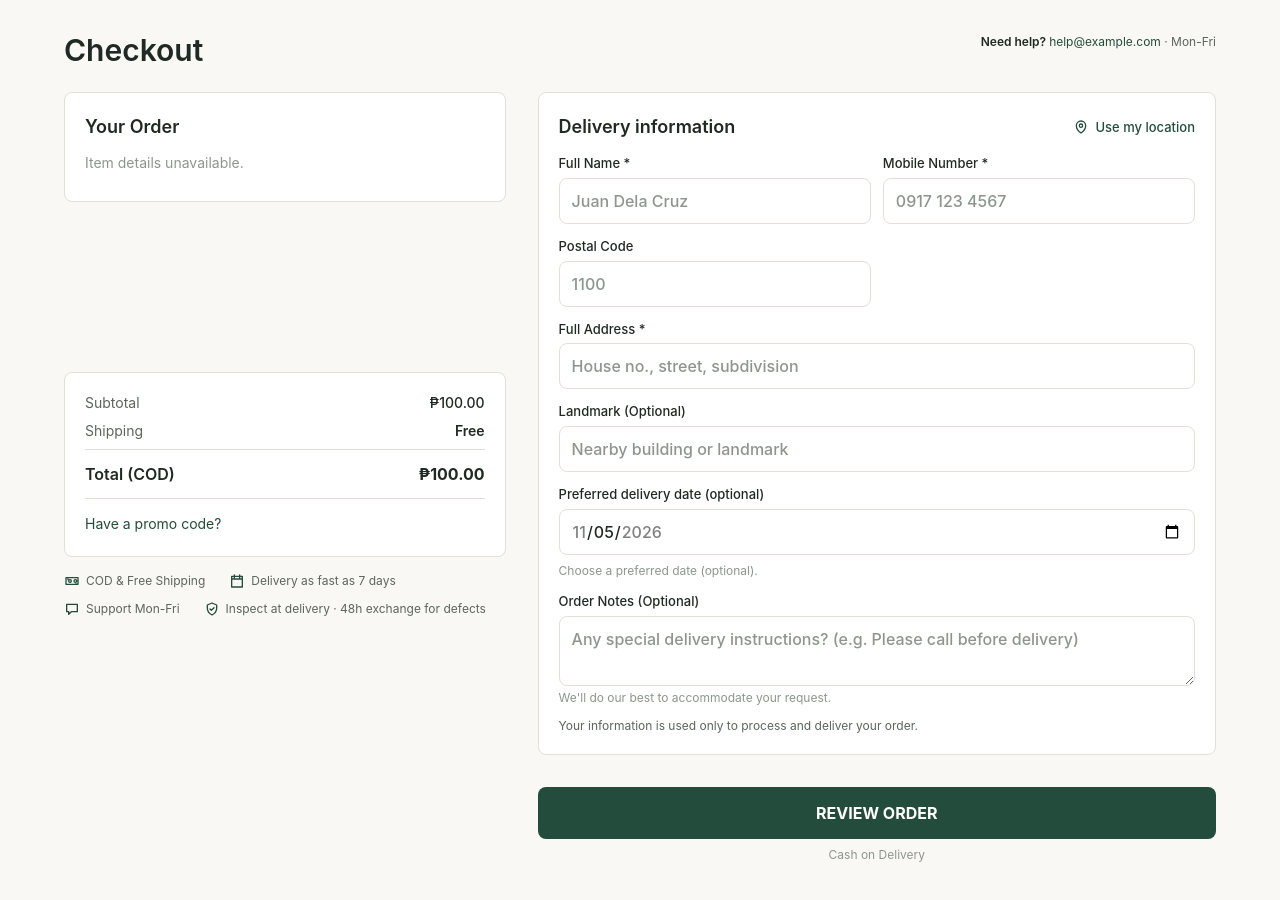
Scenario: CheckoutForm totals summary › shows the promo discount in the summary and lowers the total
Click the button "Have a promo code?" at (153, 524), box [85,514,222,534]
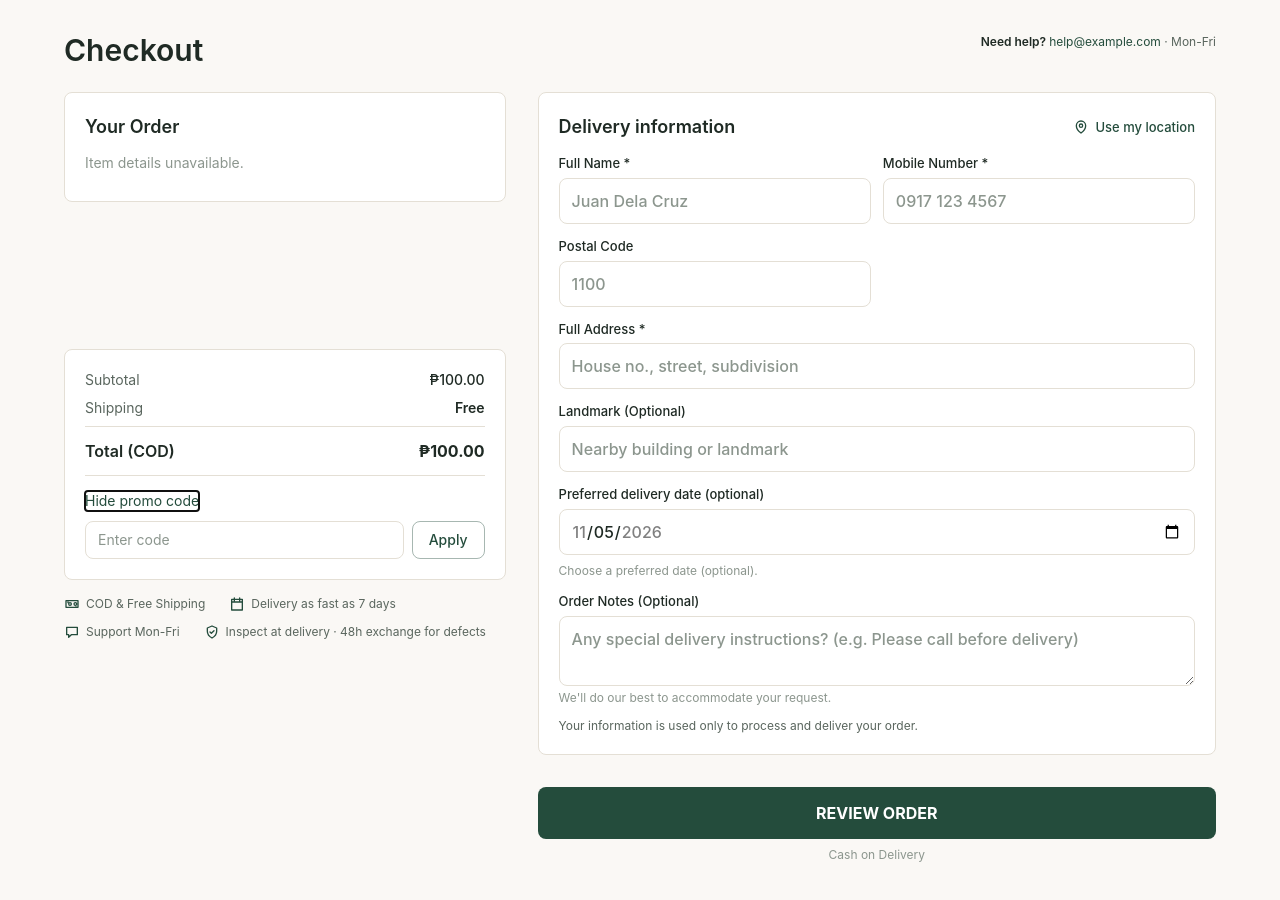
Type "save10" into the field named "Promo code" at (244, 540), box [85,521,404,559]
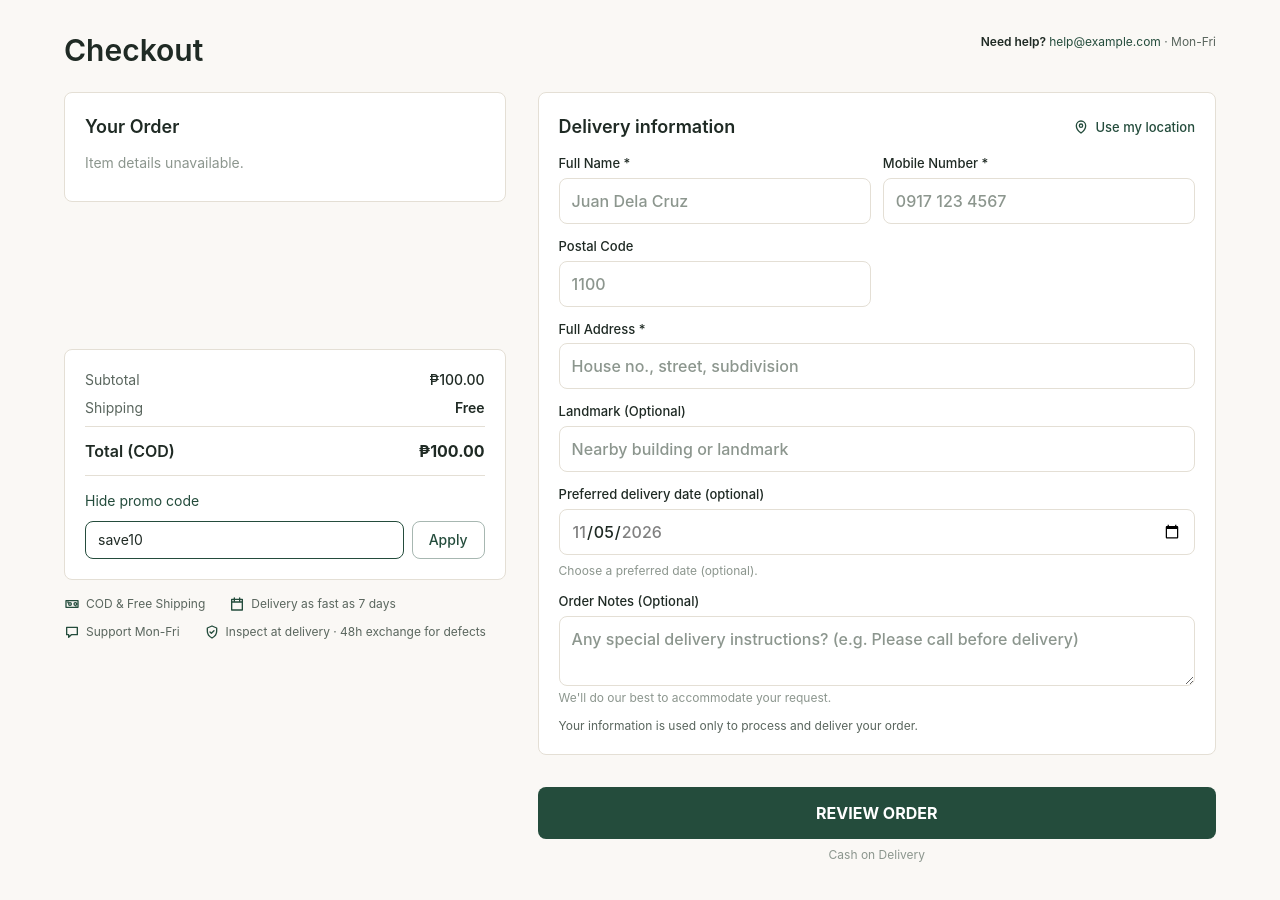
Click the button "Apply" at (448, 540), box [412,521,485,559]
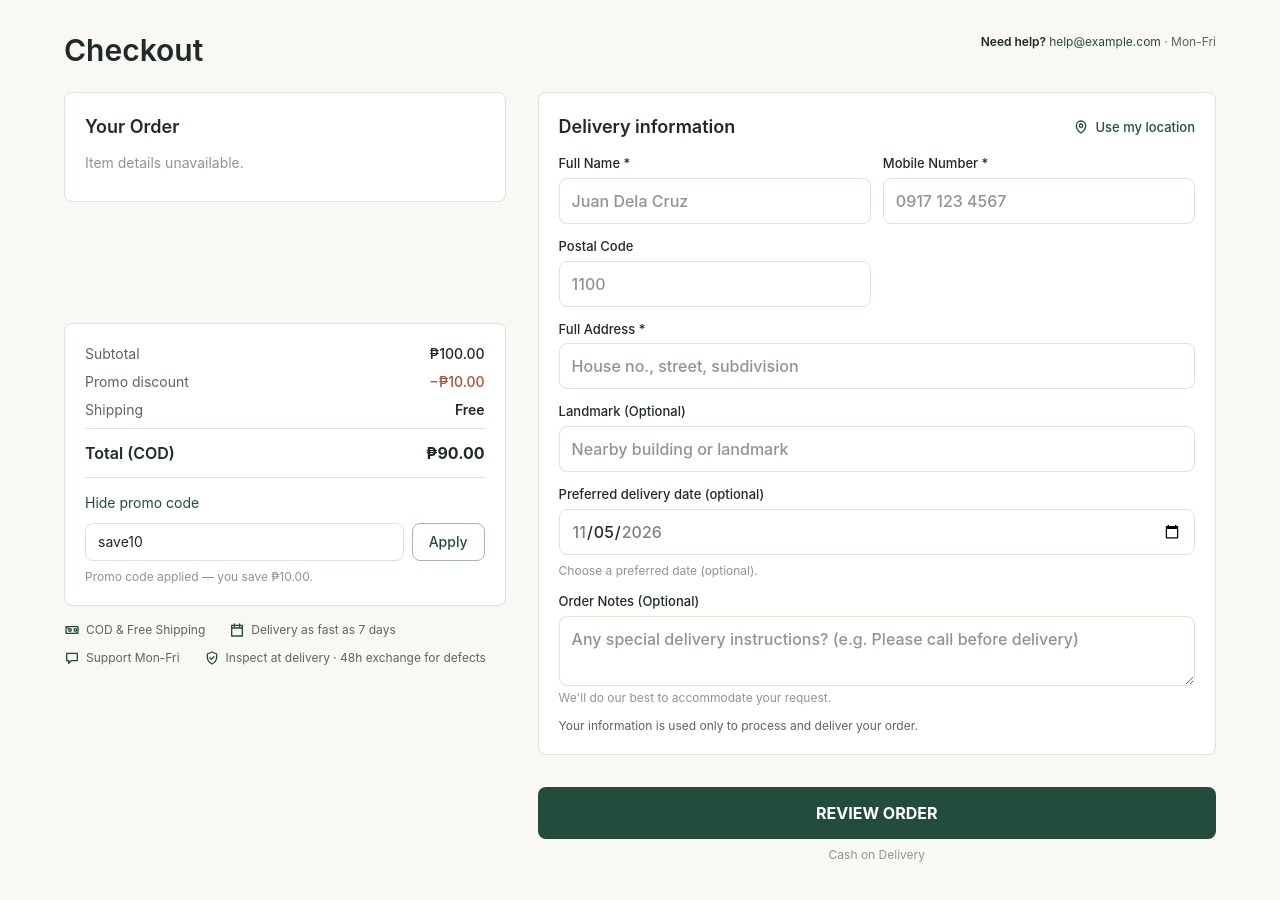
expect the element with test id "checkout-promo-discount" shows "−₱10.00": met, box [85,372,485,392]
expect the text "₱90.00" is shown: met, box [426,441,485,465]
